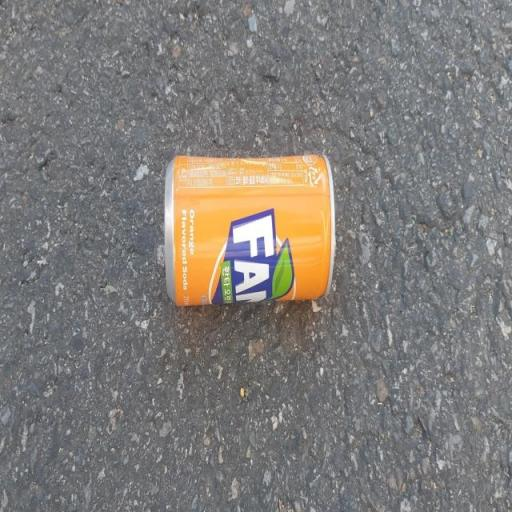metal: (145, 106, 348, 372)
